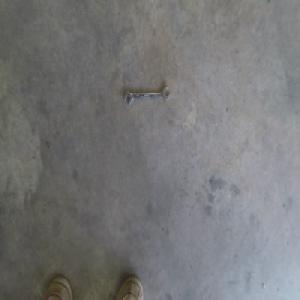Wrench: (124, 86, 171, 105)
